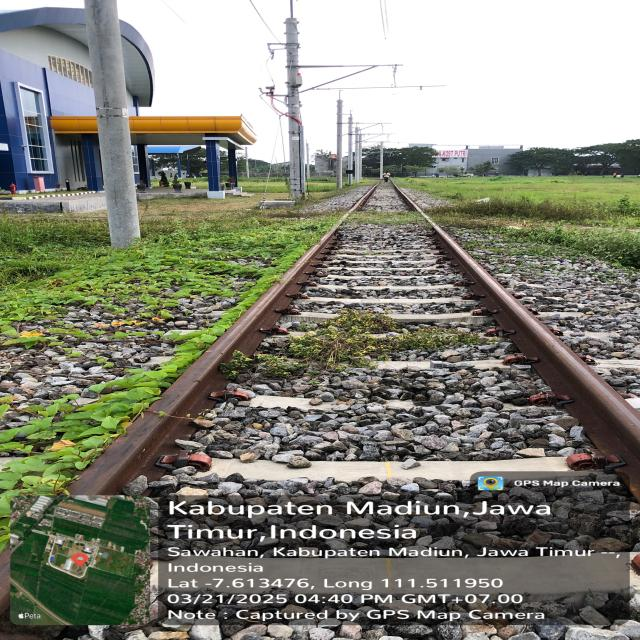rail-detection: (432, 225, 640, 497), (153, 222, 343, 412), (71, 420, 179, 490)
